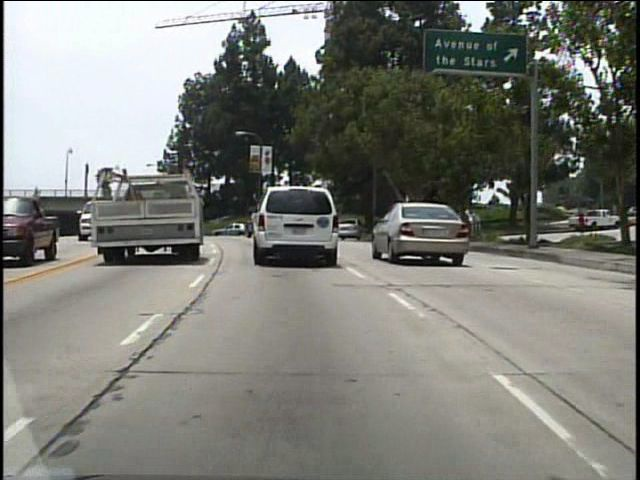person: (30, 183, 41, 203)
